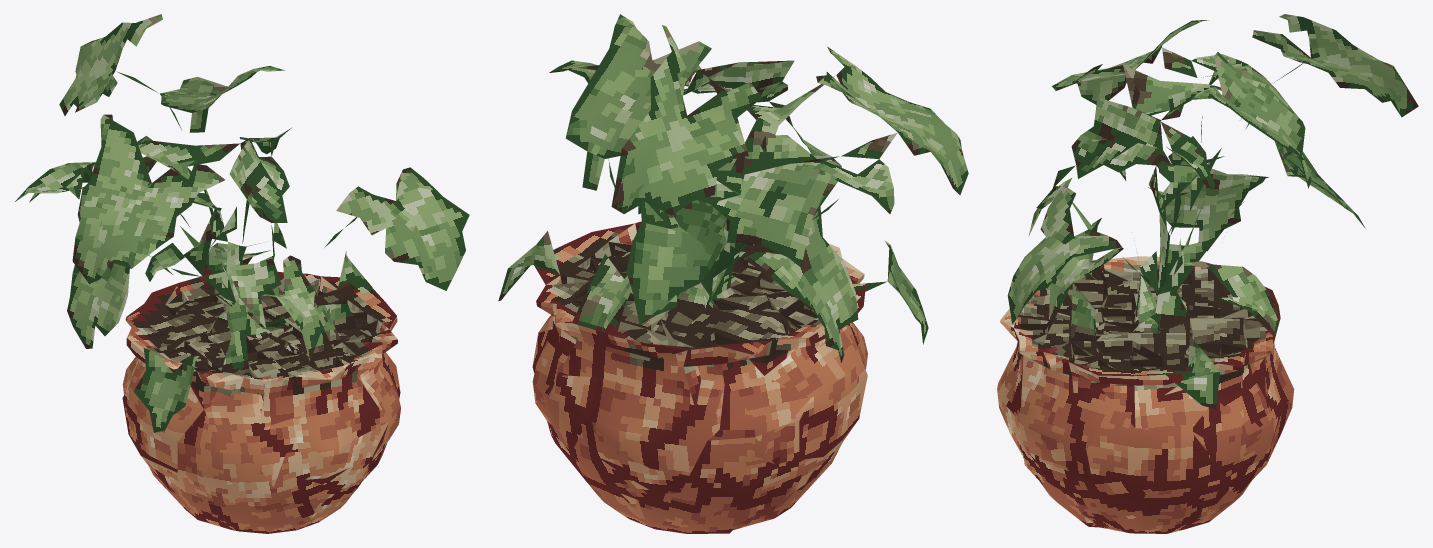
File: potted_plant_02.glb
3 views of the same model, side by side, from view 1: azimuth 30°, elevation 25°; view 2: azimuth 150°, elevation 25°; view 3: azimuth 270°, elevation 25° (orthographic). The views are drawn at different scales.
Visible parts, largest first — view 1: mesh; view 2: mesh; view 3: mesh.
Boxes of the visible parts, x1,y1,x2,y2 form: mesh: (15,14,469,533); mesh: (498,14,968,533); mesh: (997,14,1418,533).
Bounding box in the file's own units: 0.7112 × 0.8412 × 0.6805.
1 material, 1 textured.
